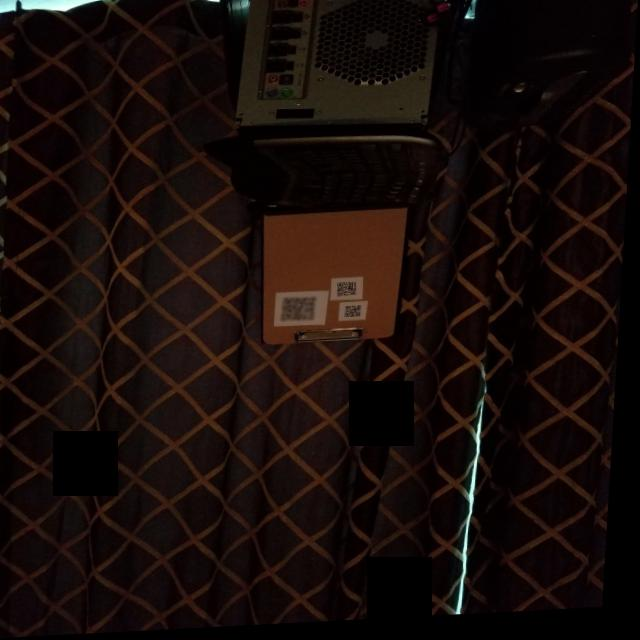QR_CODE: (279, 295, 325, 330), (335, 278, 374, 303), (344, 306, 371, 327)
